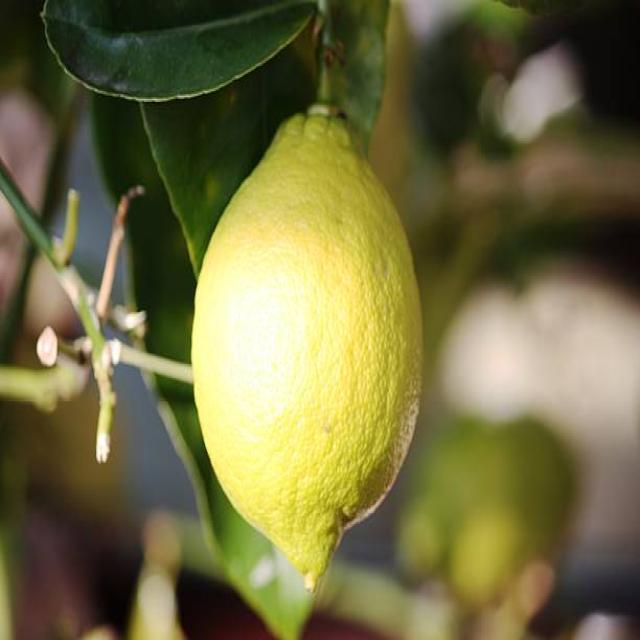Lemon: (189, 110, 423, 592)
